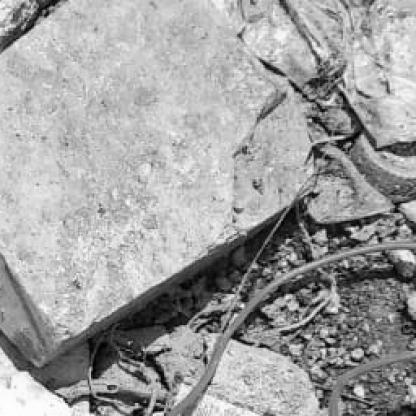cementitious_debris: (0, 0, 414, 414), (193, 252, 413, 416), (301, 125, 414, 258), (246, 208, 312, 300), (340, 361, 414, 414), (96, 342, 149, 388)
